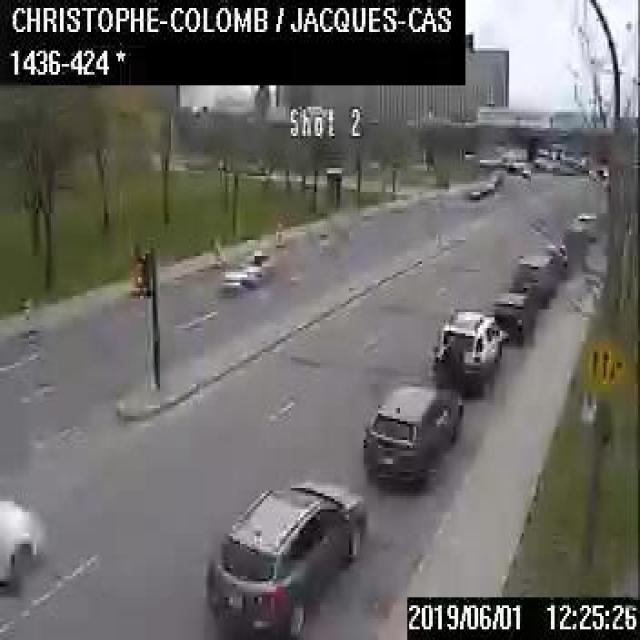construction: (20, 299, 31, 333), (131, 261, 140, 296), (213, 237, 222, 267)
vehicle: (204, 475, 367, 637), (361, 378, 463, 483), (430, 305, 507, 394), (0, 493, 45, 589), (509, 250, 557, 304), (492, 285, 536, 339), (222, 248, 272, 293), (574, 209, 598, 239), (467, 176, 493, 199), (489, 167, 506, 186)
